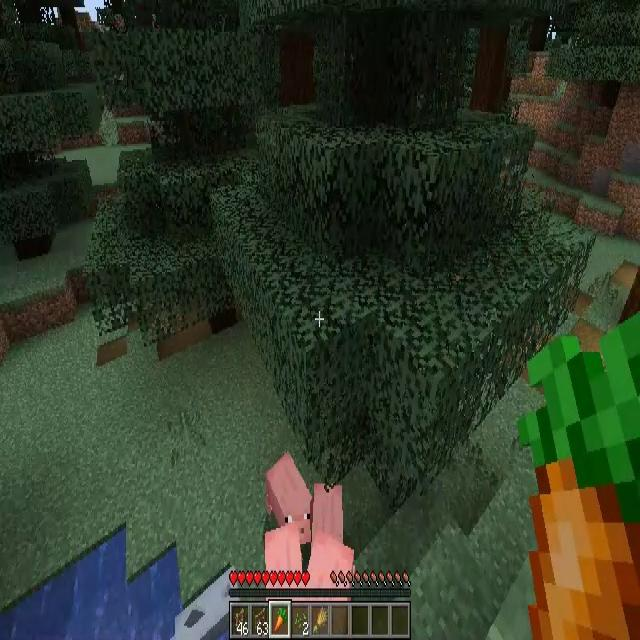pig: (268, 454, 312, 543), (304, 540, 357, 590), (268, 526, 302, 592), (312, 483, 343, 545)
